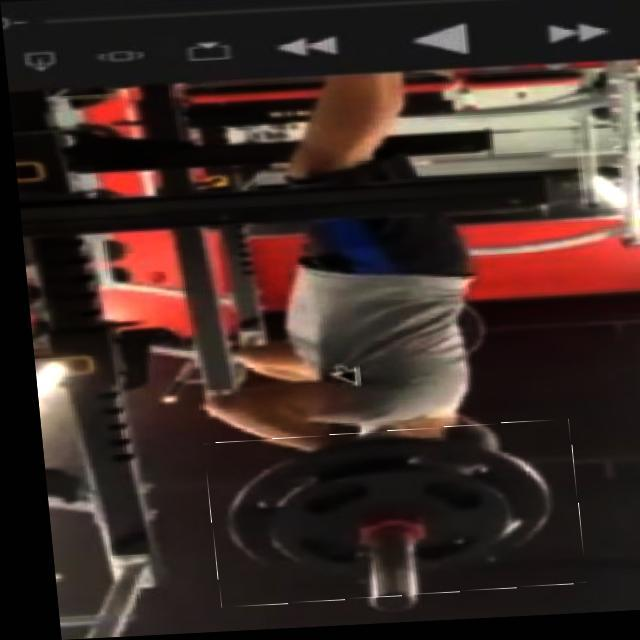barbell: (195, 427, 575, 609)
